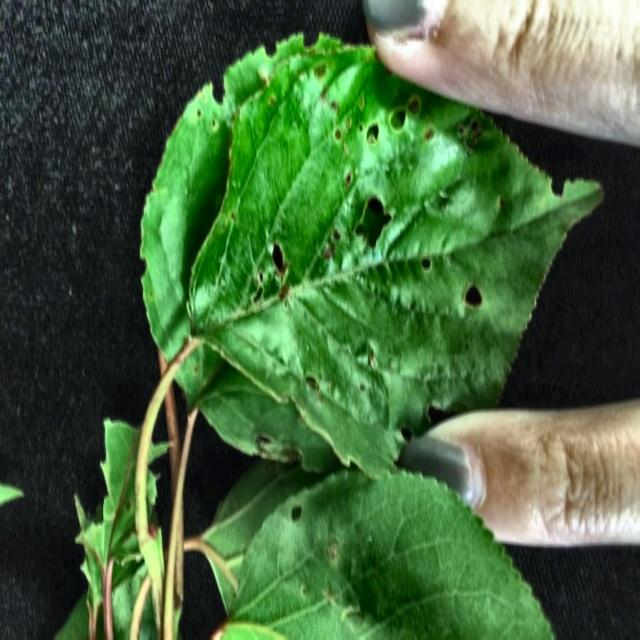shot_hole: (140, 23, 615, 480), (208, 469, 600, 640)
